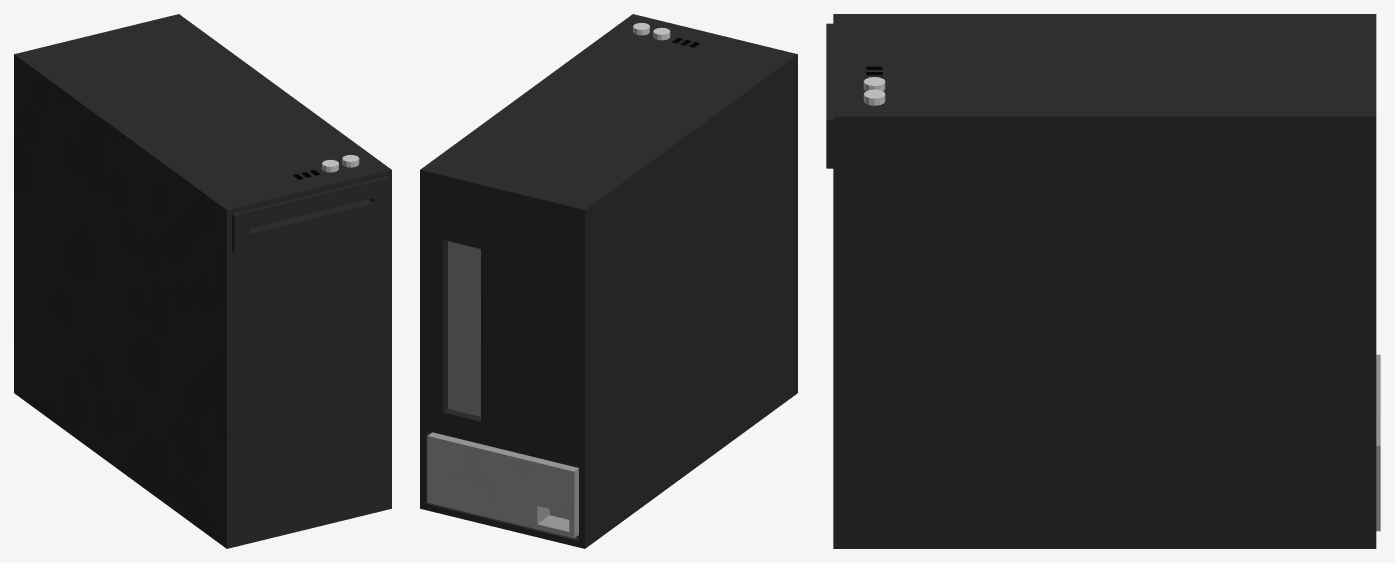
Rendered from Desktop_01.fbx.
3 views of the same model, side by side, from view 1: azimuth 30°, elevation 25°; view 2: azimuth 150°, elevation 25°; view 3: azimuth 270°, elevation 25° (orthographic). The views are drawn at different scales.
Parts seen in each view (by area): view 1: Desktop_01; view 2: Desktop_01; view 3: Desktop_01.
Part boxes in pixels (x1,y1,x2,y2): Desktop_01: [14, 14, 391, 548]; Desktop_01: [420, 14, 797, 548]; Desktop_01: [826, 14, 1380, 548].
Bounding box in the file's own units: 0.2553 × 0.5094 × 0.5823.
